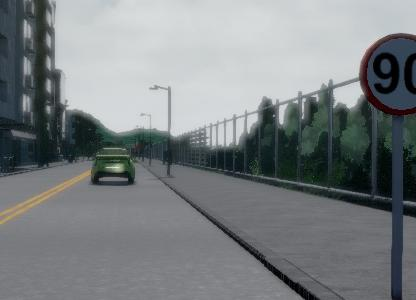Speed_90: (358, 28, 416, 120)
